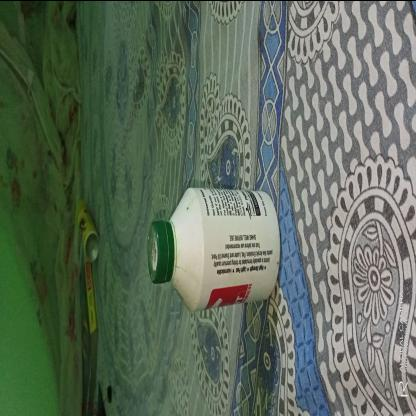bottle: (148, 183, 284, 315)
